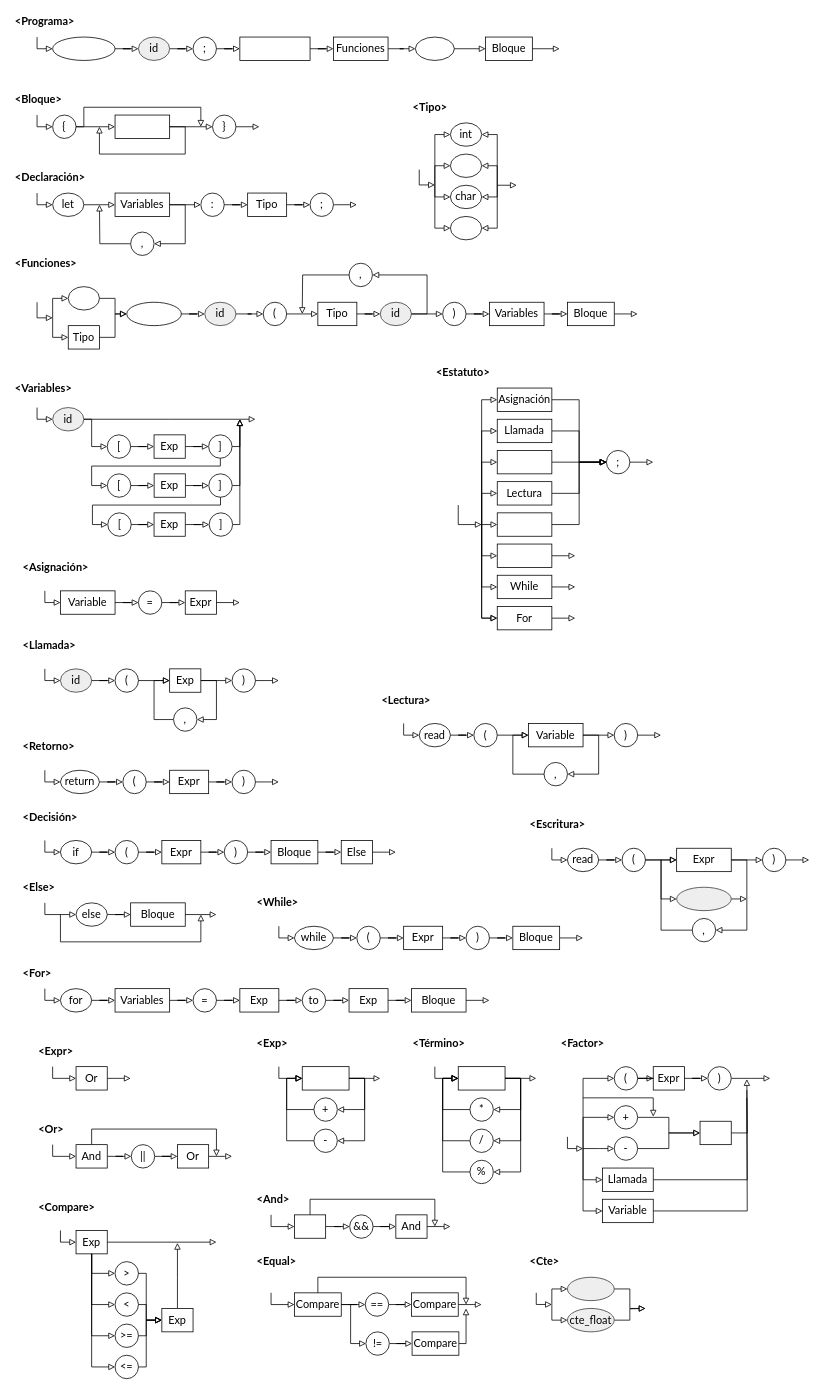
The diagram is 829 pixels wide and 1392 high, and some of its shapes have lost their labels. The centre of each missing label's shape, as x and y in pixels:
Cte: pixel 715 1132
cte.string: pixel 703 898
cte_int: pixel 590 1288
Decisión: pixel 524 555
Declaración: pixel 274 48
Equal: pixel 310 1226
Escritura: pixel 524 524
Estatuto: pixel 142 126
Factor: pixel 481 1078
float: pixel 466 165
function: pixel 153 313
main(): pixel 434 48
program: pixel 83 48
Retorno: pixel 524 462
string: pixel 466 228
Término: pixel 325 1078
void: pixel 83 298
